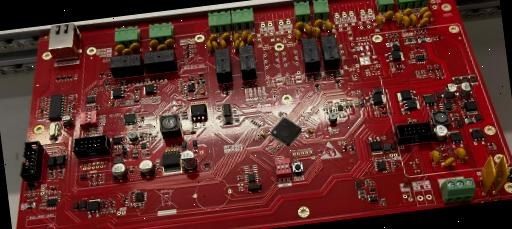var: (489, 152, 511, 194), (478, 154, 499, 195), (430, 149, 442, 164), (456, 146, 468, 160), (441, 156, 456, 167), (148, 38, 160, 50), (130, 40, 143, 51), (324, 20, 334, 34), (312, 26, 322, 40), (294, 21, 306, 32), (114, 43, 126, 54), (418, 6, 430, 17), (313, 18, 324, 30), (422, 10, 433, 22), (408, 14, 418, 26), (304, 24, 314, 36), (394, 12, 404, 24), (418, 16, 430, 26), (402, 15, 411, 28), (206, 40, 214, 54), (383, 10, 394, 20), (233, 38, 242, 50), (122, 46, 134, 55), (294, 28, 302, 41), (221, 32, 231, 42), (402, 7, 412, 17), (208, 32, 218, 42), (164, 38, 175, 47), (246, 32, 254, 44), (156, 42, 168, 50), (376, 14, 384, 26), (219, 38, 228, 48), (212, 40, 220, 50), (241, 29, 248, 40), (233, 31, 241, 40), (238, 41, 246, 48)
